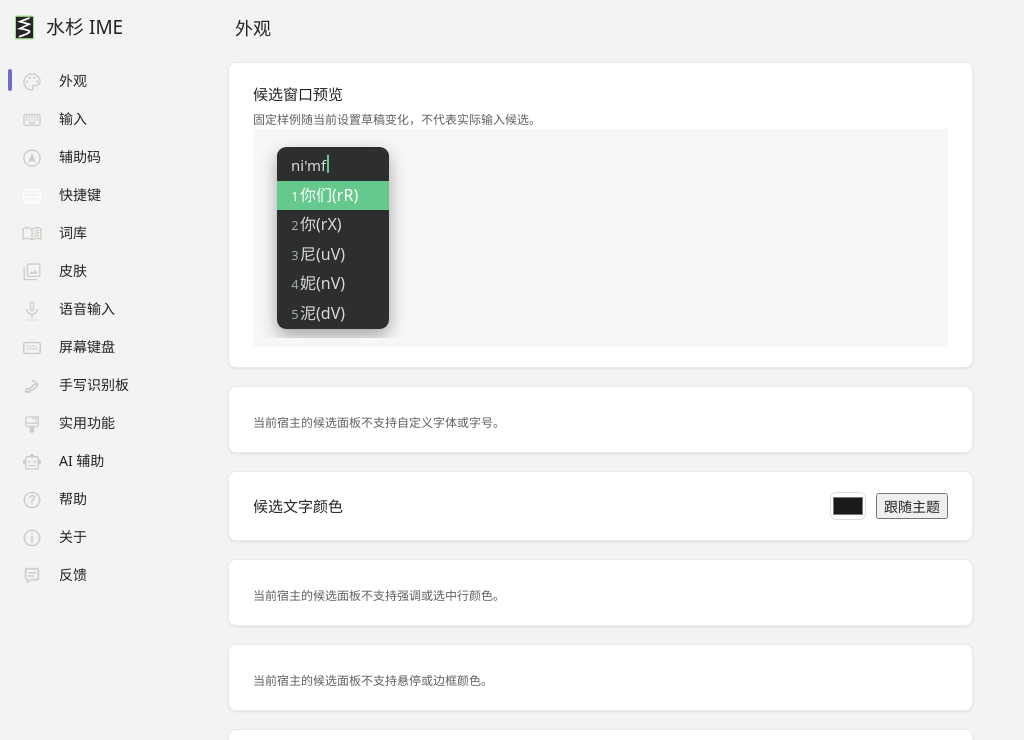
Test: the choice belongs to Doubao and is not shown for another provider
Click the button "语音输入": (68, 308) [8,290,127,326]
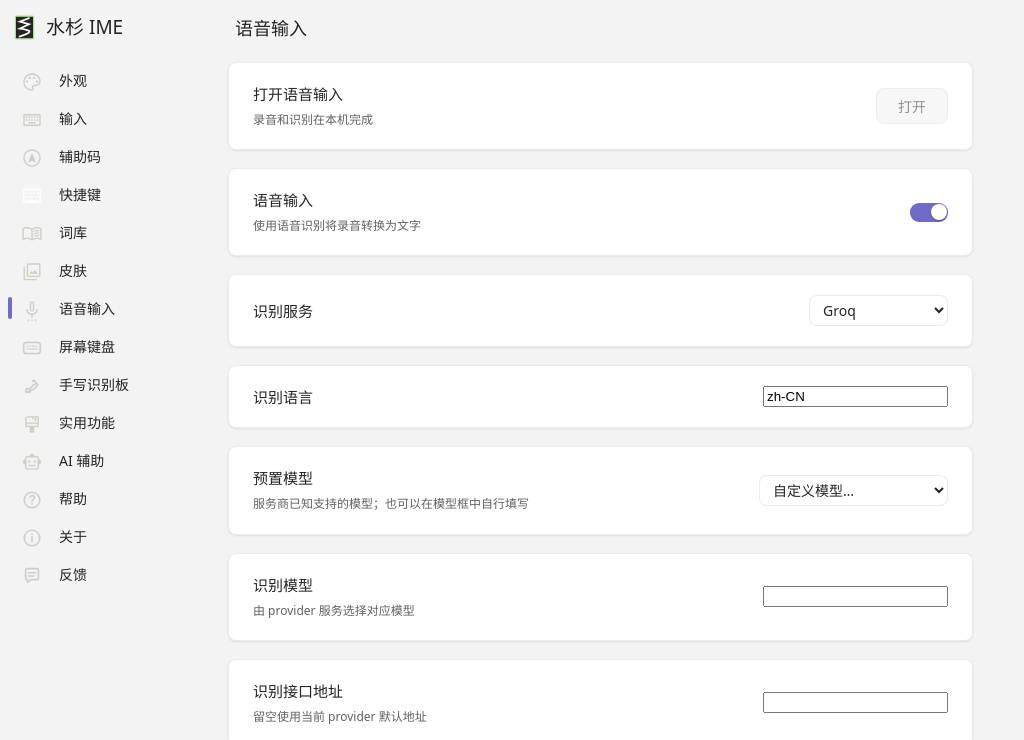
Now the field labelled "识别接口地址" is shown, box [763,692,948,713]
